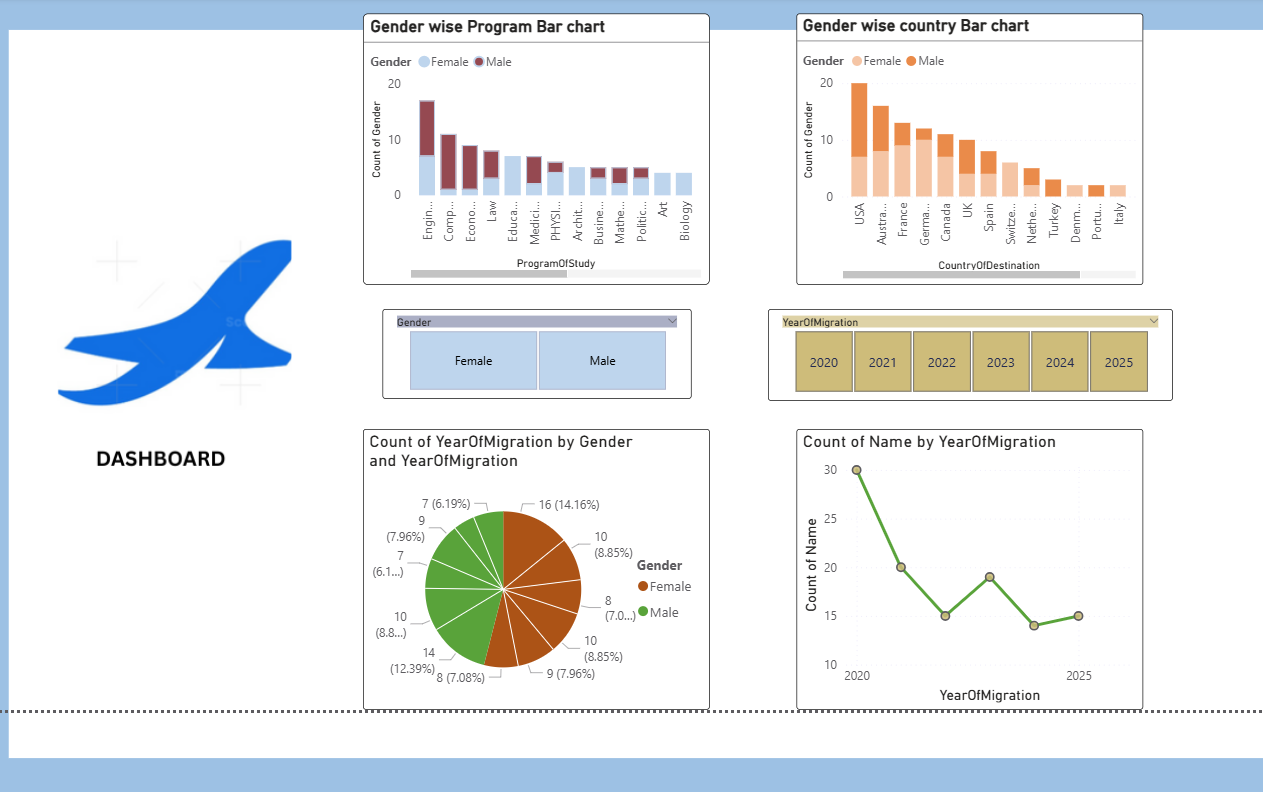

The page's visual inventory and layout, read from the dashboard file:
{"tool":"powerbi","page":{"name":"Page 1","canvas":[1280,720],"ordinal":0},"visuals":[{"type":"columnChart","title":"Gender wise Program Bar chart","fields":{"Category":["project student migration record.ProgramOfStudy"],"Series":["project student migration record.Gender"],"Y":["CountNonNull(project student migration record.Gender)"]},"box":[369.5,16.7,349.8,274.1],"z":0},{"type":"columnChart","title":"Gender wise country Bar chart","fields":{"Series":["project student migration record.Gender"],"Y":["CountNonNull(project student migration record.Gender)"],"Category":["project student migration record.CountryOfDestination"]},"box":[807.1,16.7,349.8,274.1],"z":1000},{"type":"slicer","fields":{"Values":["project student migration record.Gender"]},"box":[389.2,315,311.9,90.9],"z":2000},{"type":"pieChart","fields":{"Category":["project student migration record.Gender"],"Y":["CountNonNull(project student migration record.YearOfMigration)"],"Series":["project student migration record.YearOfMigration"]},"box":[369.5,436.1,349.8,283.2],"z":3000},{"type":"lineChart","fields":{"Category":["project student migration record.YearOfMigration"],"Y":["CountNonNull(project student migration record.Name)"]},"box":[807.1,436.1,349.8,283.2],"z":4000},{"type":"slicer","fields":{"Values":["project student migration record.YearOfMigration"]},"box":[778.3,315,408.8,92.4],"z":5000}]}

Visuals, with their boxes in screenshot pixels (x1, y1, x2, y2):
"Gender wise Program Bar chart" columnChart: [left=366, top=23, right=707, bottom=290]
"Gender wise country Bar chart" columnChart: [left=792, top=23, right=1132, bottom=290]
slicer - project student migration record.Gender: [left=385, top=313, right=689, bottom=402]
pieChart - project student migration record.Gender x CountNonNull(project student migration record.YearOfMigration): [left=366, top=431, right=707, bottom=707]
lineChart - project student migration record.YearOfMigration x CountNonNull(project student migration record.Name): [left=792, top=431, right=1132, bottom=707]
slicer - project student migration record.YearOfMigration: [left=764, top=313, right=1162, bottom=403]
